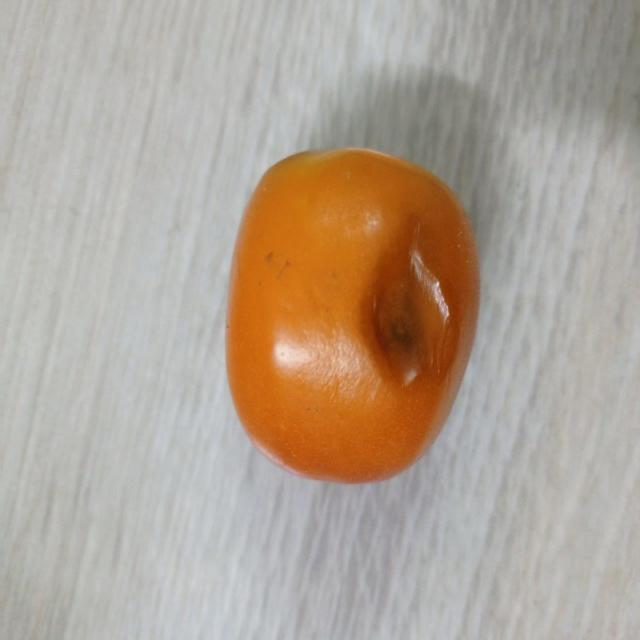Rotten: (226, 143, 481, 484)
